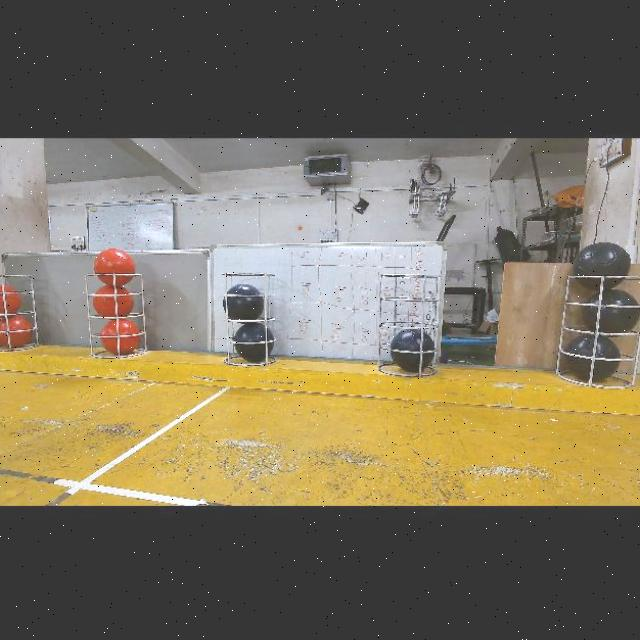P: (573, 242, 632, 290), (562, 335, 621, 382), (583, 288, 640, 334), (391, 329, 435, 373), (234, 322, 275, 362), (224, 284, 265, 321)
R: (93, 248, 135, 287), (100, 318, 141, 356), (93, 283, 134, 317), (0, 315, 33, 349), (0, 284, 22, 315)
S: (556, 266, 640, 388), (374, 274, 446, 380), (217, 272, 279, 364), (87, 267, 147, 359), (1, 273, 36, 357)
